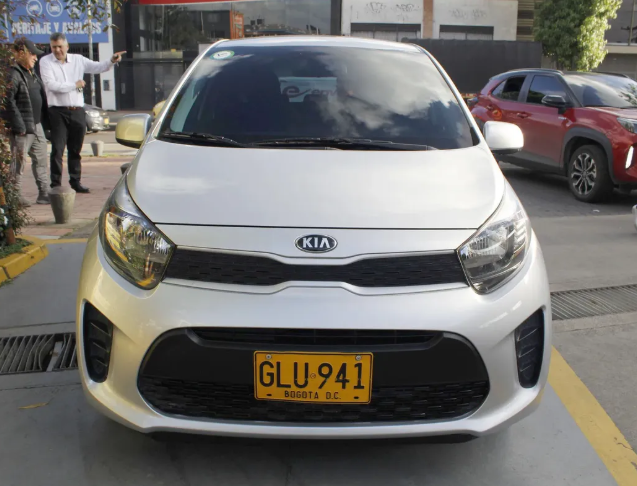placa: (255, 352, 371, 403)
